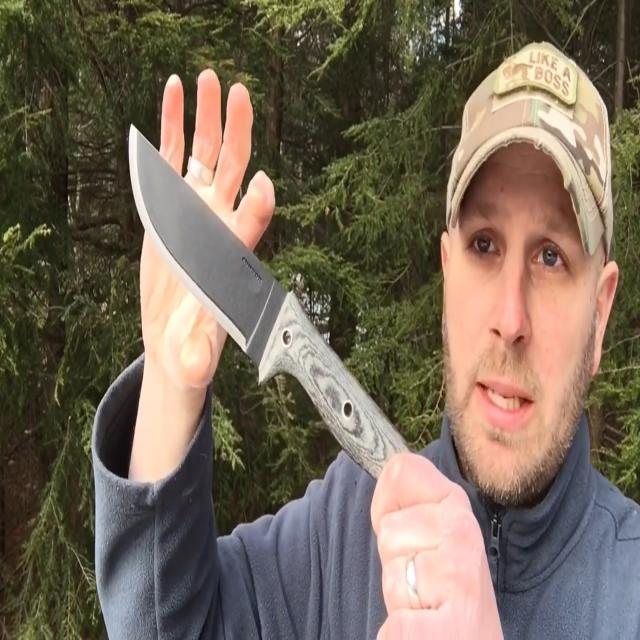knife: (126, 117, 396, 480)
